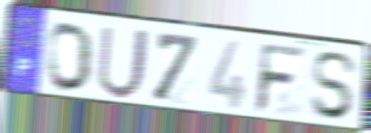4: (207, 38, 248, 113)
7: (154, 30, 200, 105)
F: (252, 41, 309, 117)
O: (46, 21, 95, 95)
S: (308, 50, 360, 123)
U: (95, 24, 152, 101)
